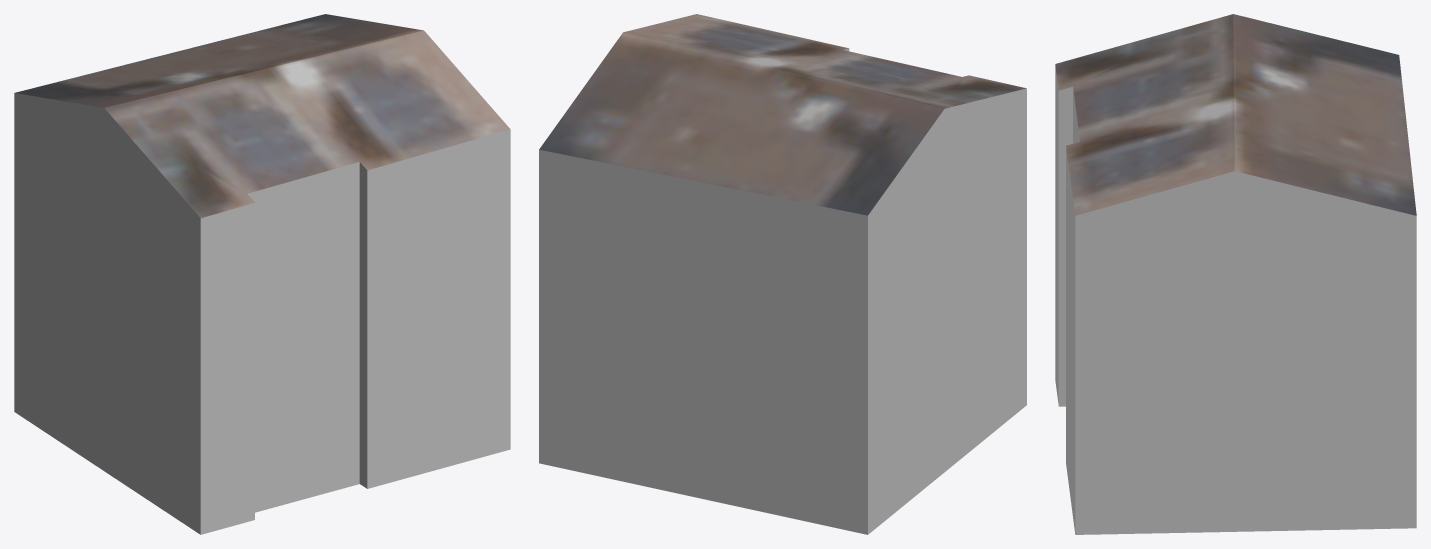
File: DEBW_0010007Txdh.gltf
3 views of the same model, side by side, from view 1: azimuth 30°, elevation 25°; view 2: azimuth 150°, elevation 25°; view 3: azimuth 270°, elevation 25° (orthographic).
Visible parts, largest first — view 1: Z_UP; view 2: Z_UP; view 3: Z_UP.
Part boxes in pixels (bbox=[...]): Z_UP: bbox=[14, 14, 510, 534]; Z_UP: bbox=[539, 14, 1026, 534]; Z_UP: bbox=[1055, 14, 1416, 534].
Size of the model in its own units: 10.7 by 11.14 by 10.08.
2 materials, 1 textured.
